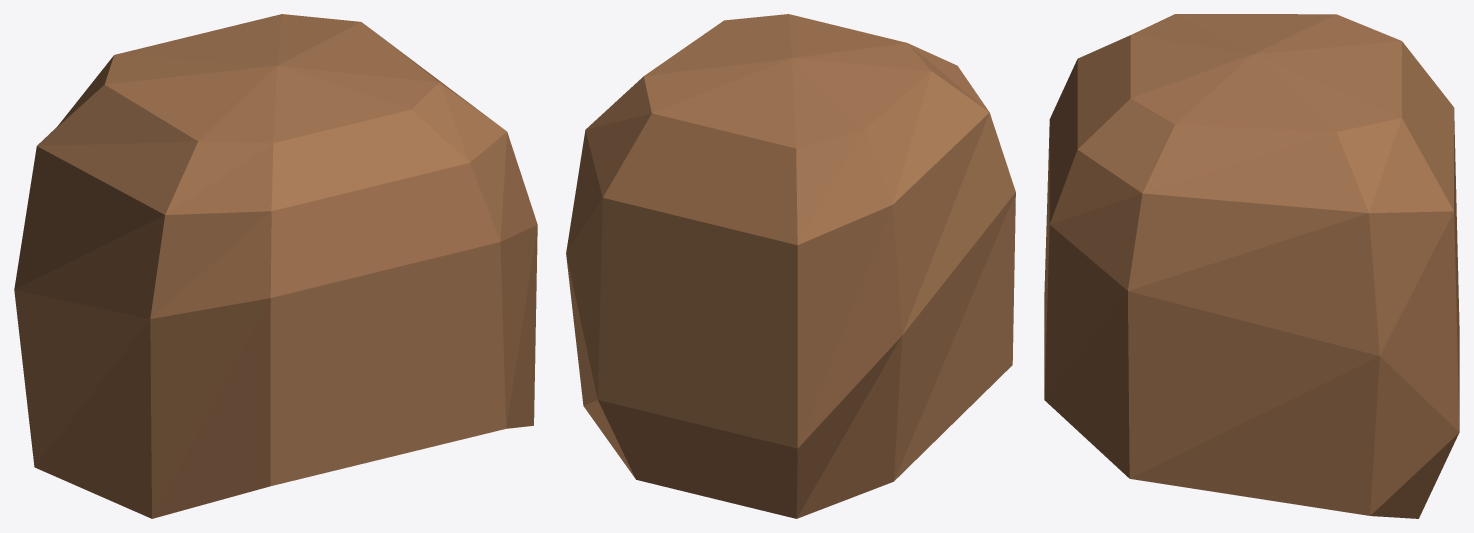
The model's file is scalp-cap-f.high.668c0897.glb.
The picture shows the model from 3 angles, left to right: view 1: azimuth 30°, elevation 25°; view 2: azimuth 150°, elevation 25°; view 3: azimuth 270°, elevation 25°; orthographic projection. The views are drawn at different scales.
Visible parts, largest first — view 1: scalp-cap-f; view 2: scalp-cap-f; view 3: scalp-cap-f.
Boxes of the visible parts, left/top/right/bottom form: scalp-cap-f: left=14, top=14, right=537, bottom=518; scalp-cap-f: left=566, top=14, right=1015, bottom=518; scalp-cap-f: left=1044, top=14, right=1459, bottom=518.
Bounding box in the file's own units: 0.1804 × 0.1978 × 0.1764.
